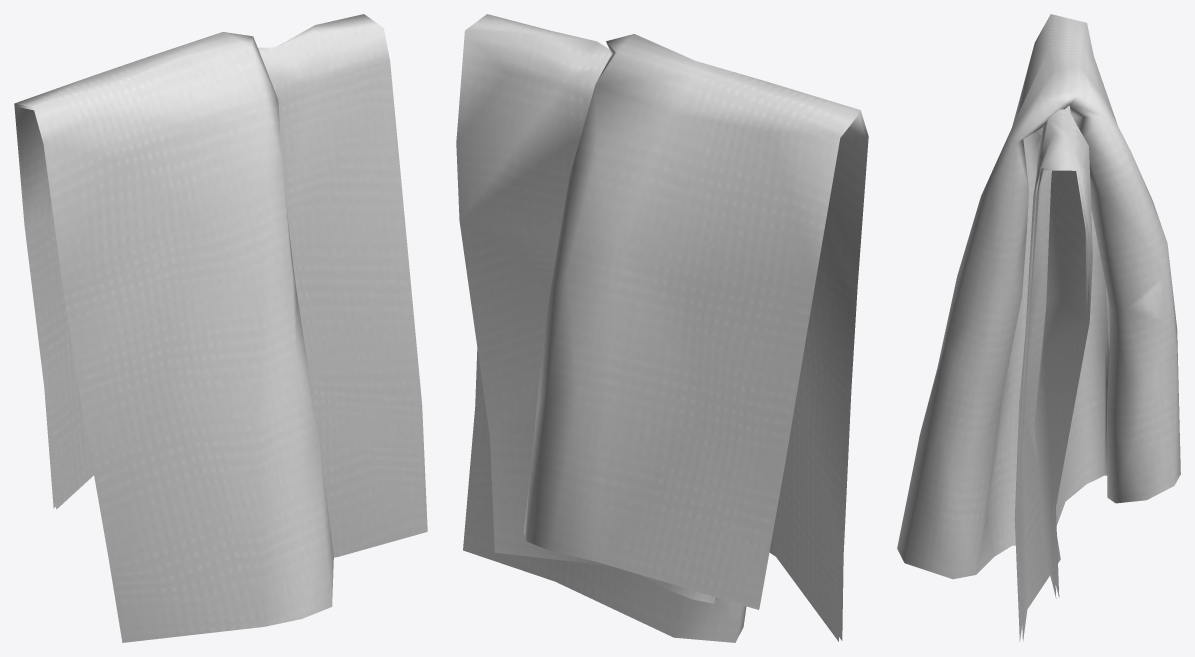
Rendered from BathroomTowel_A.fbx.
The picture shows the model from 3 angles, left to right: view 1: azimuth 30°, elevation 25°; view 2: azimuth 150°, elevation 25°; view 3: azimuth 270°, elevation 25°; orthographic projection. The views are drawn at different scales.
Visible parts, largest first — view 1: BathroomTowel_A; view 2: BathroomTowel_A; view 3: BathroomTowel_A.
Part boxes in pixels (x1,y1,x2,y2): BathroomTowel_A: (14, 14, 427, 642); BathroomTowel_A: (456, 14, 868, 642); BathroomTowel_A: (897, 14, 1180, 641).
Size of the model in its own units: 27.79 by 37.77 by 19.78.
